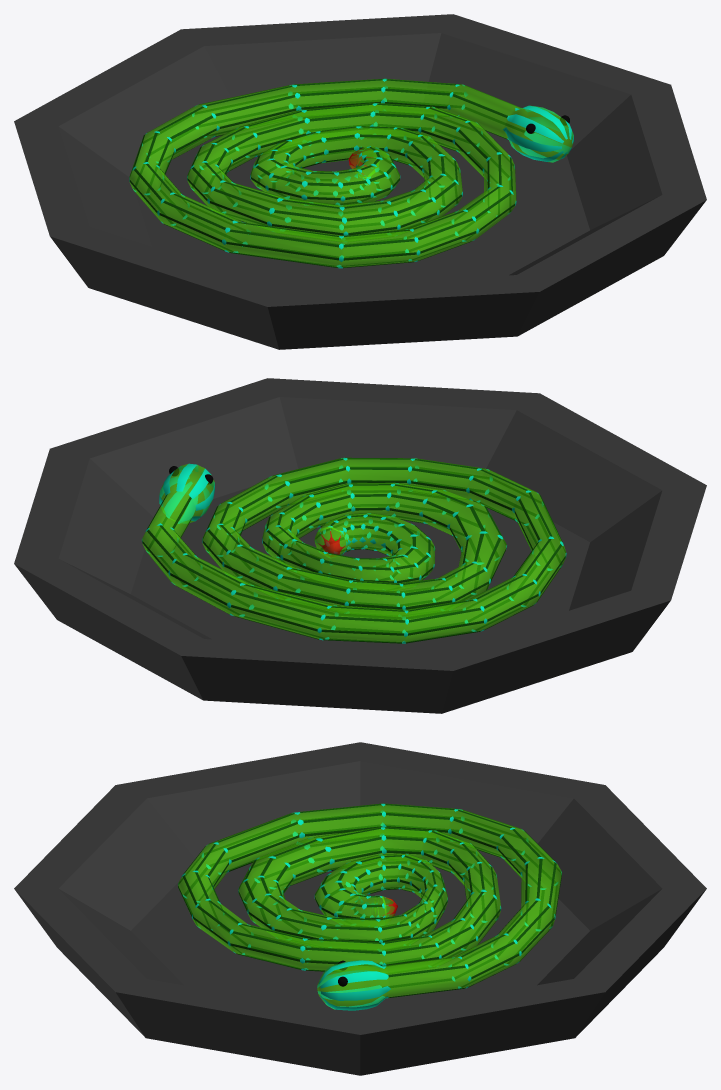
The model's file is gummy snake.fbx.
3 views of the same model, one above another, from view 1: azimuth 30°, elevation 25°; view 2: azimuth 150°, elevation 25°; view 3: azimuth 270°, elevation 25° (orthographic). The views are drawn at different scales.
Visible parts, largest first — view 1: plate, Spiral; view 2: plate, Spiral; view 3: plate, Spiral.
Part boxes in pixels (box(x1,y1,x2,y2)): plate: box(14, 14, 706, 349); Spiral: box(129, 78, 573, 268); plate: box(14, 378, 706, 713); Spiral: box(142, 457, 566, 643); plate: box(14, 742, 706, 1075); Spiral: box(178, 803, 561, 1010).
Bounding box in the file's own units: 302 × 40.66 × 302.
